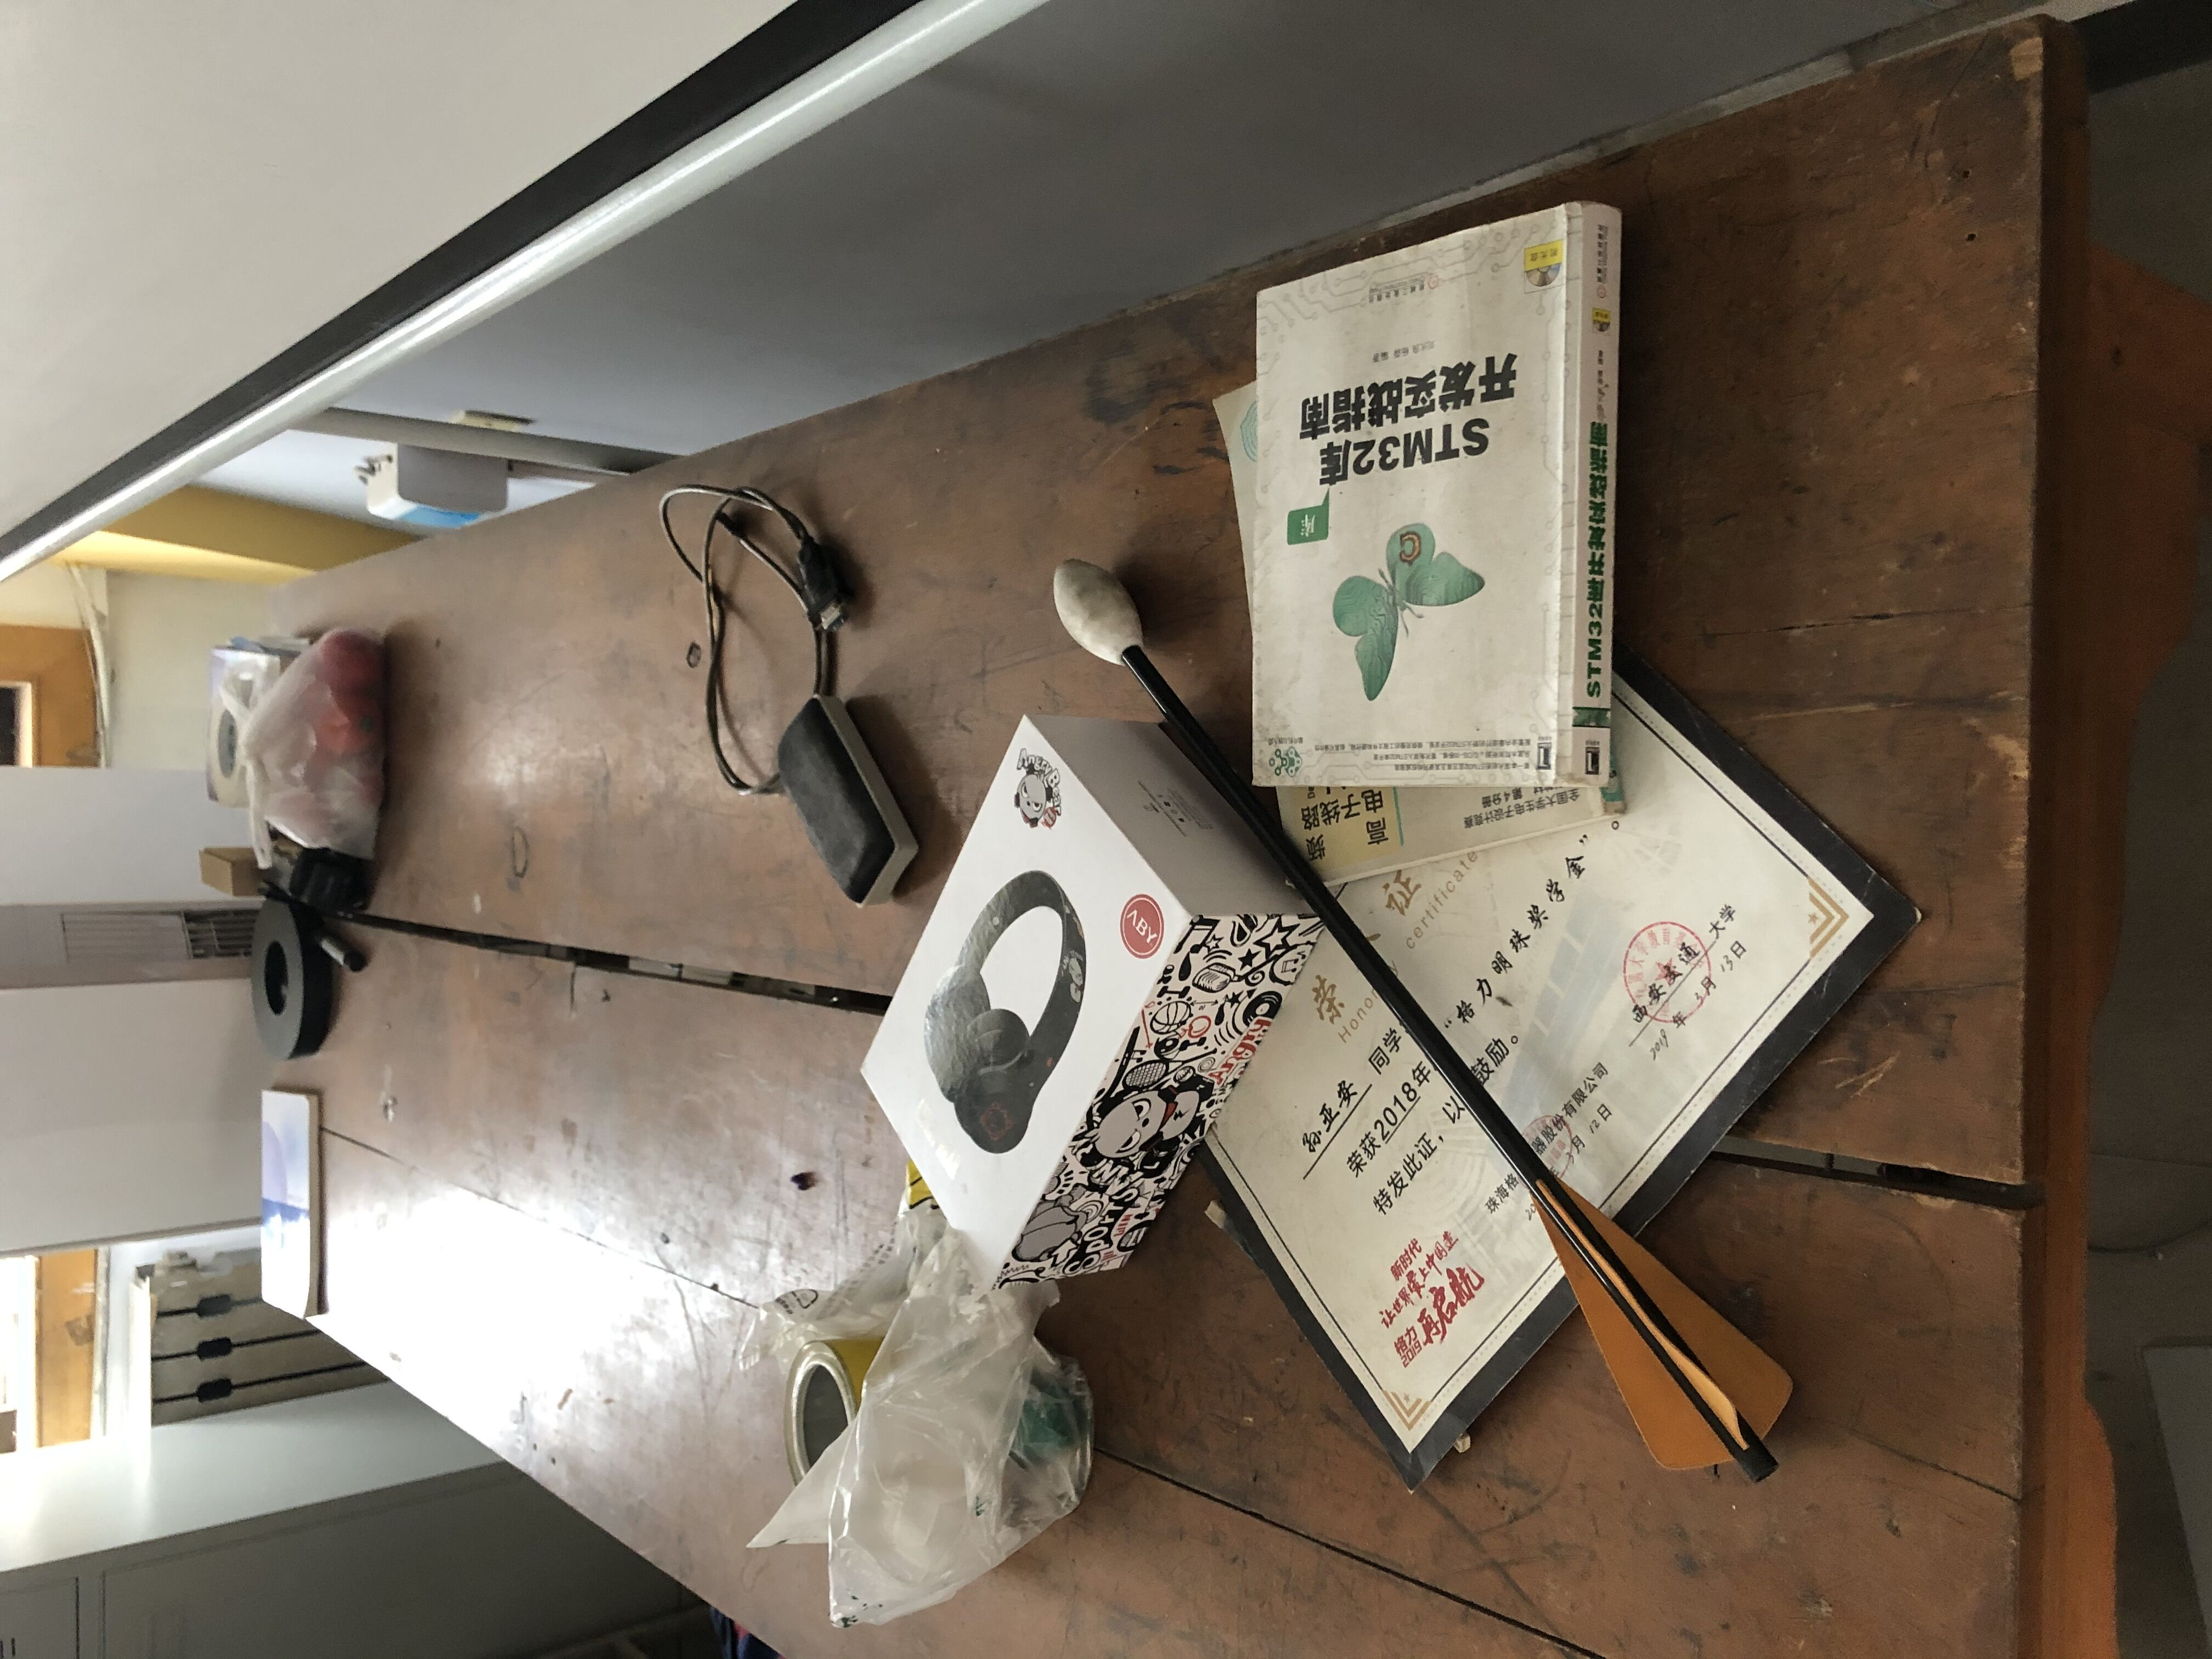arrow: (1050, 559, 1797, 1486)
arrowFront: (1049, 561, 1150, 667)
